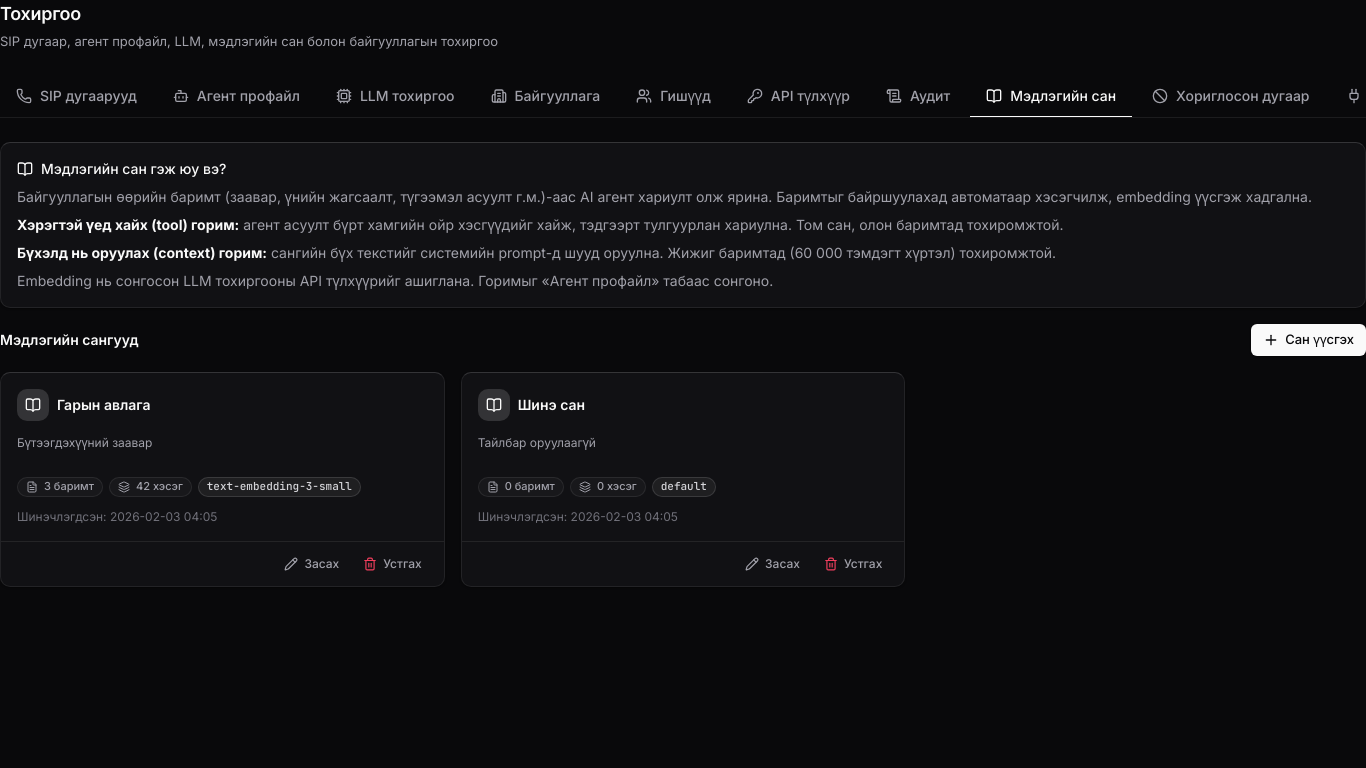
Test: KnowledgeTab › does not lock an empty base
Step 1. Click the button with aria-label "Засах Шинэ сан" → (773, 564), box [735,550,810,578]
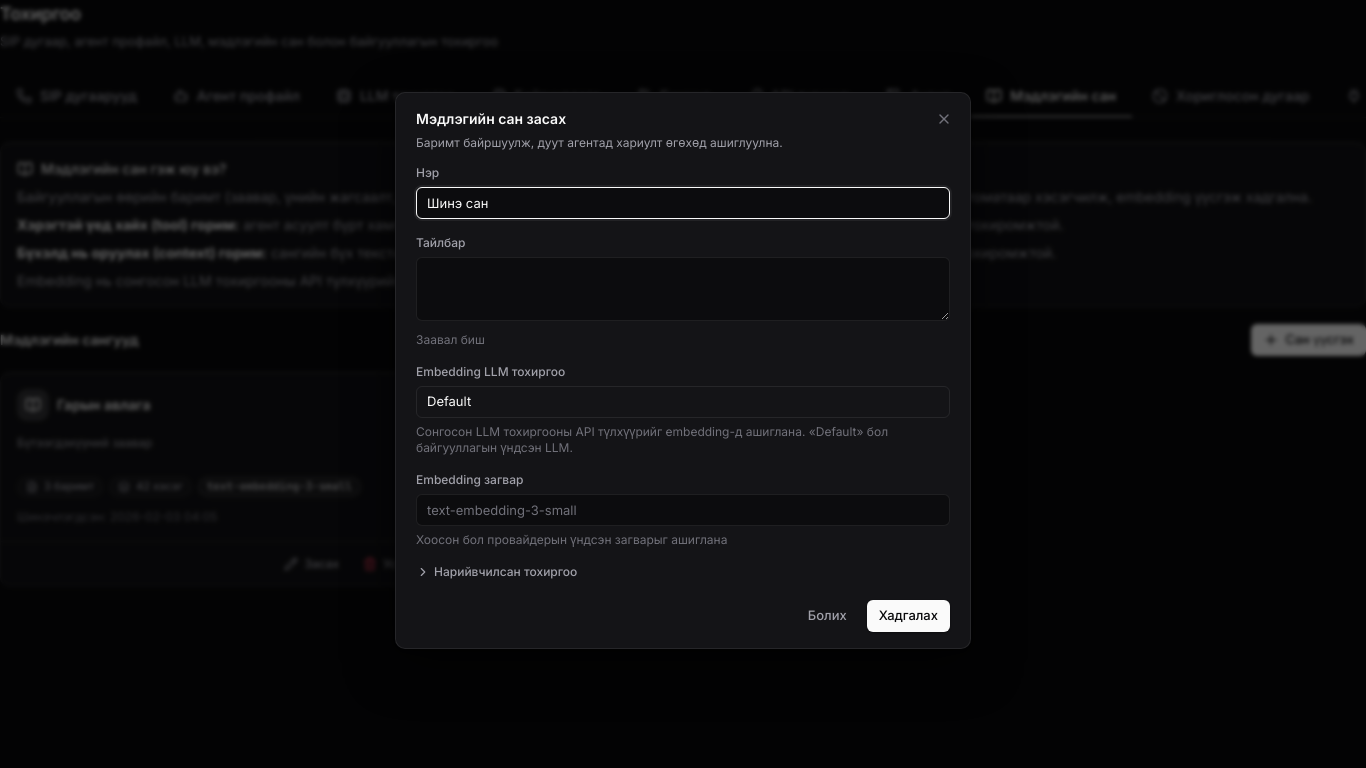
Result: the field labelled "Embedding загвар" is enabled at [416,494,950,526]
